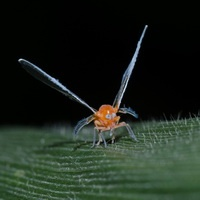insect: (18, 25, 147, 145)
